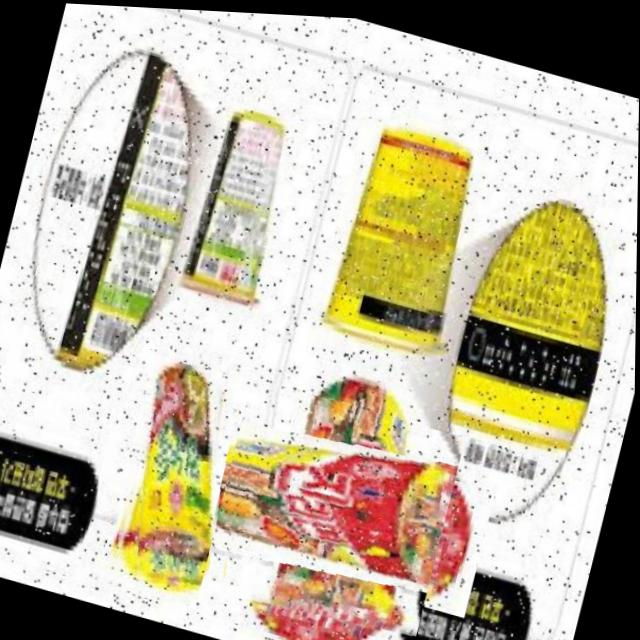Miscellaneous: (202, 373, 466, 640), (100, 338, 256, 610)
